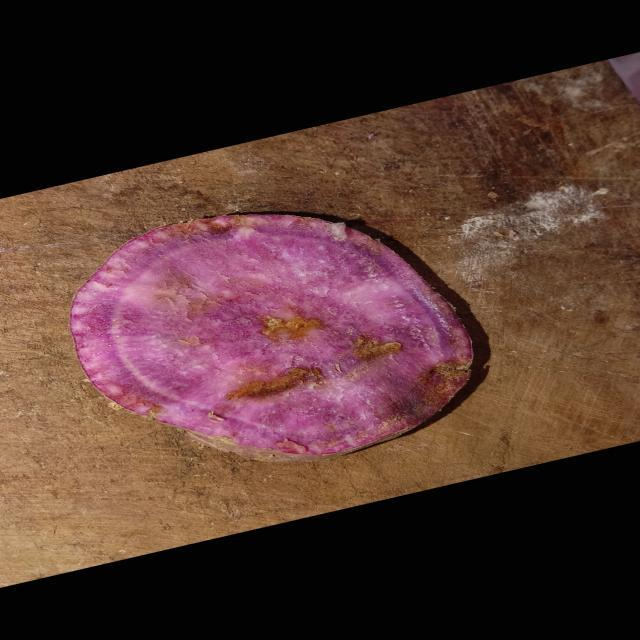Sick Sweet Potato_Tuber Rot: (71, 215, 473, 462)
